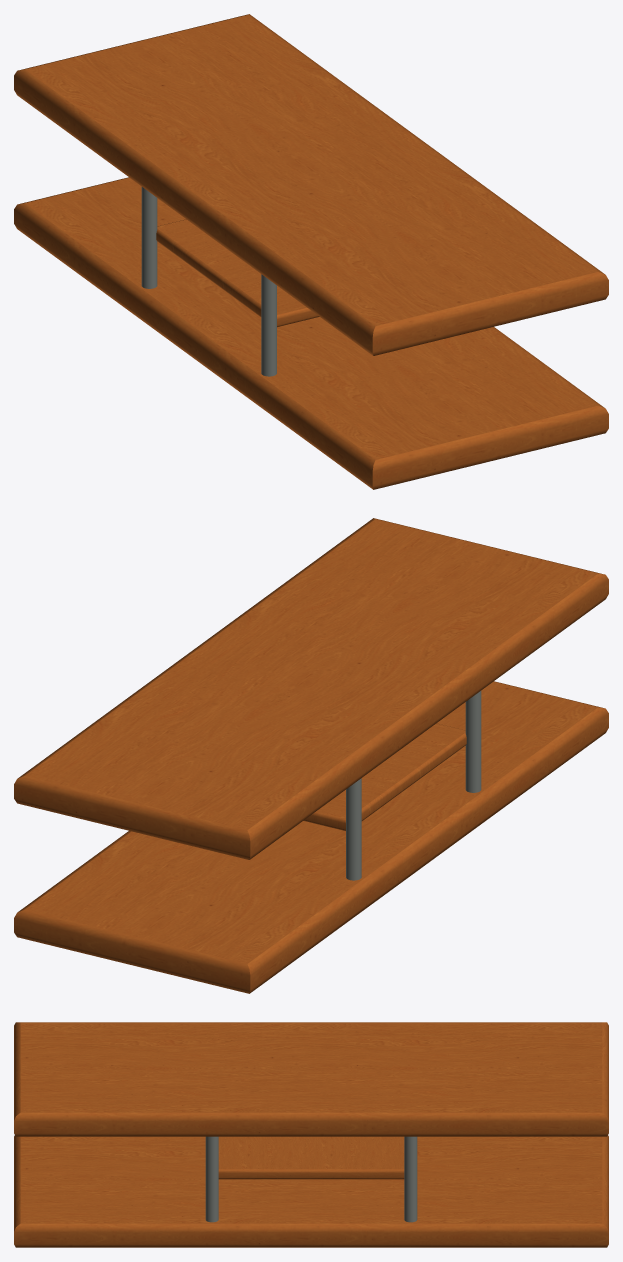
The model's file is tvTable.fbx.
3 renders of one model, top to bottom at view 1: azimuth 30°, elevation 25°; view 2: azimuth 150°, elevation 25°; view 3: azimuth 270°, elevation 25°, orthographic. The views are drawn at different scales.
Visible parts, largest first — view 1: tvTable; view 2: tvTable; view 3: tvTable.
Boxes of the visible parts, x1,y1,x2,y2 form: tvTable: (14,14,608,489); tvTable: (14,518,608,993); tvTable: (14,1022,608,1247).
Size of the model in its own units: 50.98 by 33.51 by 134.
Materials: 1 (1 with a texture image).
